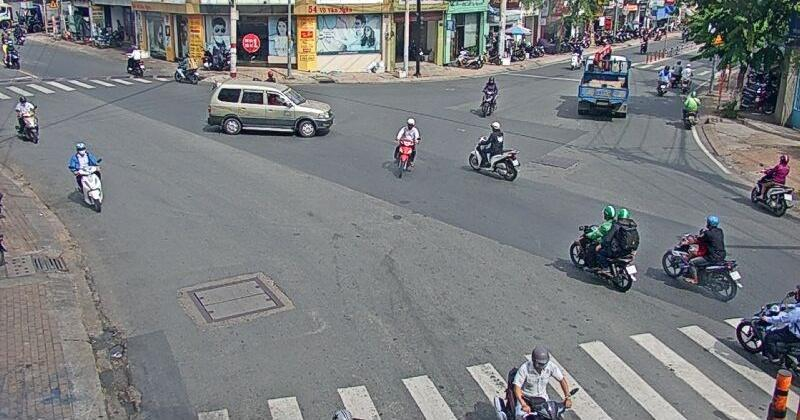xe hoi: (208, 80, 335, 138)
xe may: (661, 216, 739, 301), (569, 205, 637, 292), (735, 285, 800, 371), (507, 345, 576, 420), (468, 122, 519, 182), (749, 155, 793, 216), (68, 142, 102, 212), (394, 118, 420, 177), (14, 96, 39, 142), (480, 75, 498, 116), (682, 91, 699, 129)
